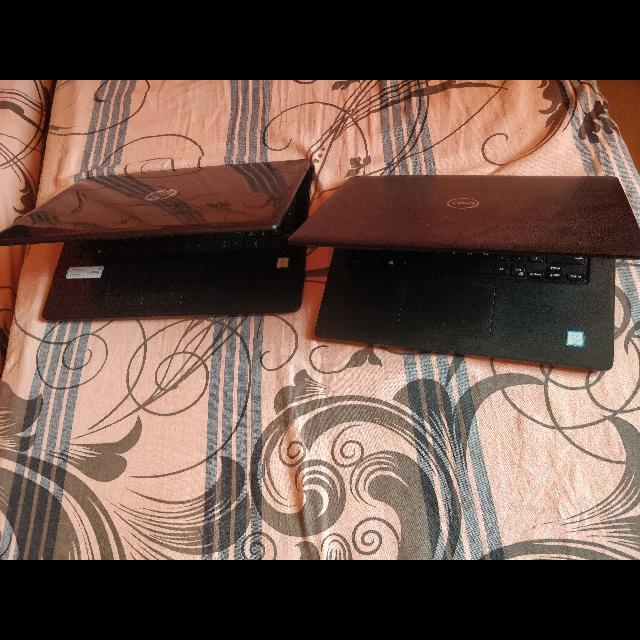Laptop: (286, 167, 640, 376), (0, 152, 314, 326)
